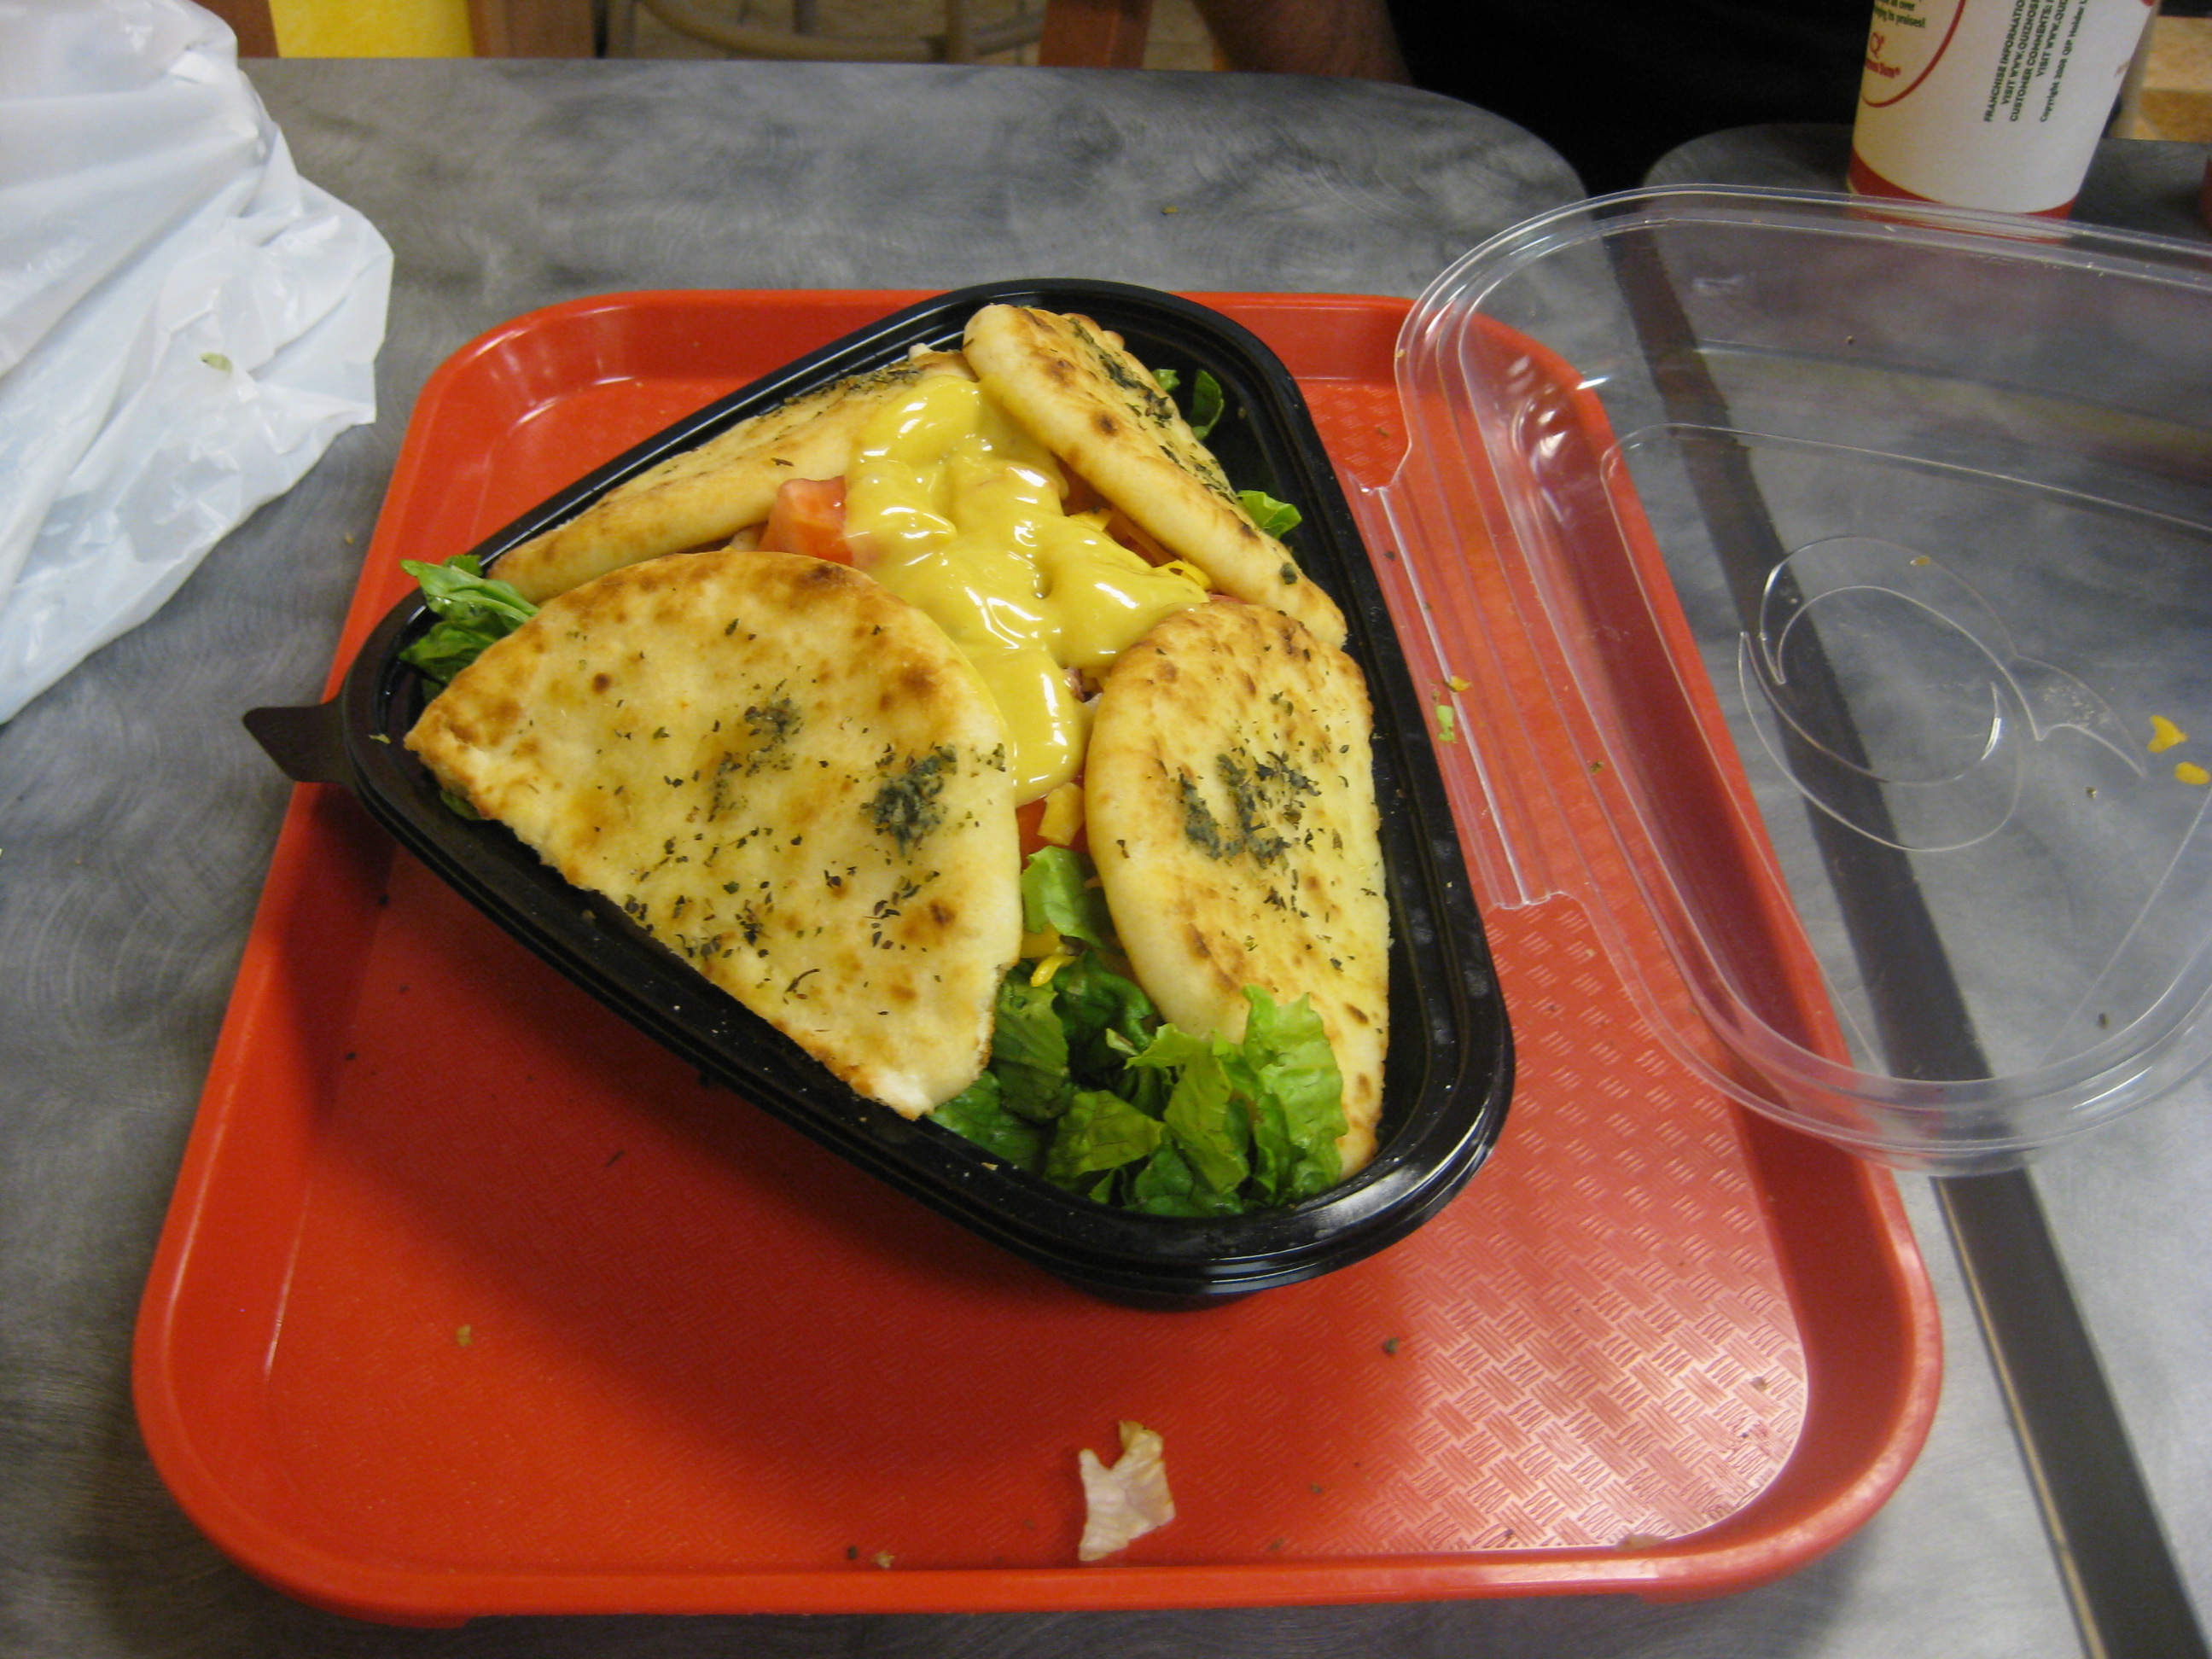burrito: (396, 170, 1521, 1279)
